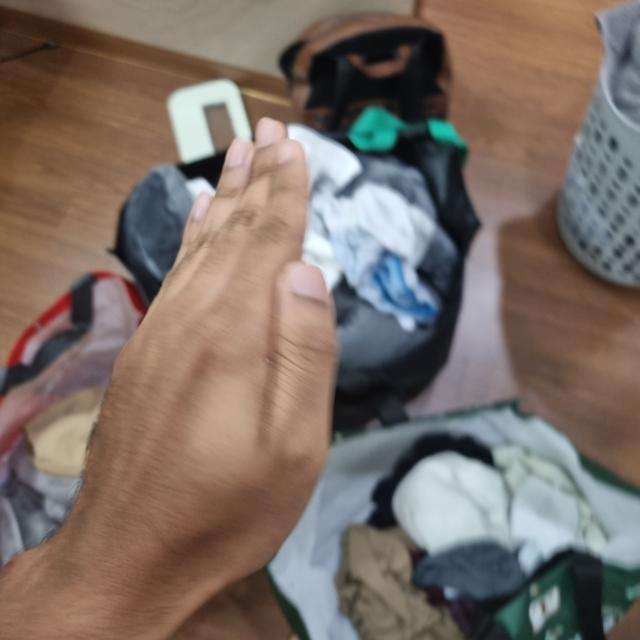Paper: (84, 0, 631, 592)
